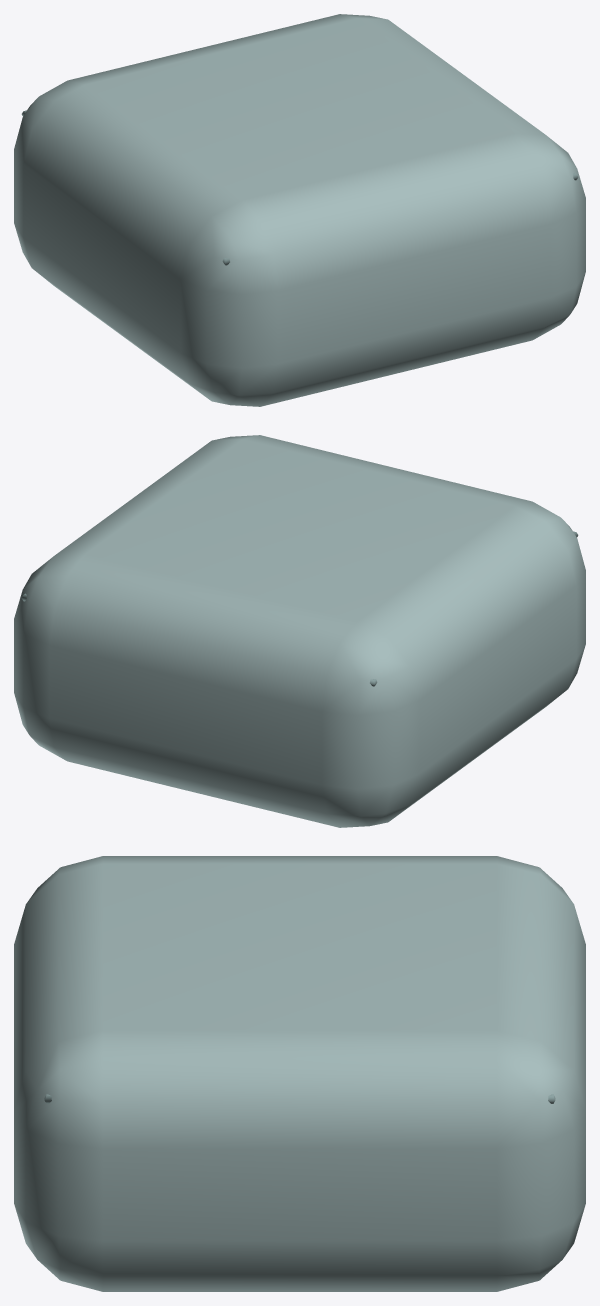
Rendered from atelier-floor-cushion.glb.
3 renders of one model, top to bottom at view 1: azimuth 30°, elevation 25°; view 2: azimuth 150°, elevation 25°; view 3: azimuth 270°, elevation 25°, orthographic. The views are drawn at different scales.
Parts seen in each view (by area): view 1: fabric.082; view 2: fabric.082; view 3: fabric.082.
Part boxes in pixels (box(x1,y1,x2,y2)): fabric.082: box(14, 14, 585, 406); fabric.082: box(14, 435, 585, 827); fabric.082: box(14, 856, 585, 1291).
Size of the model in its own units: 0.45 by 0.22 by 0.45.
